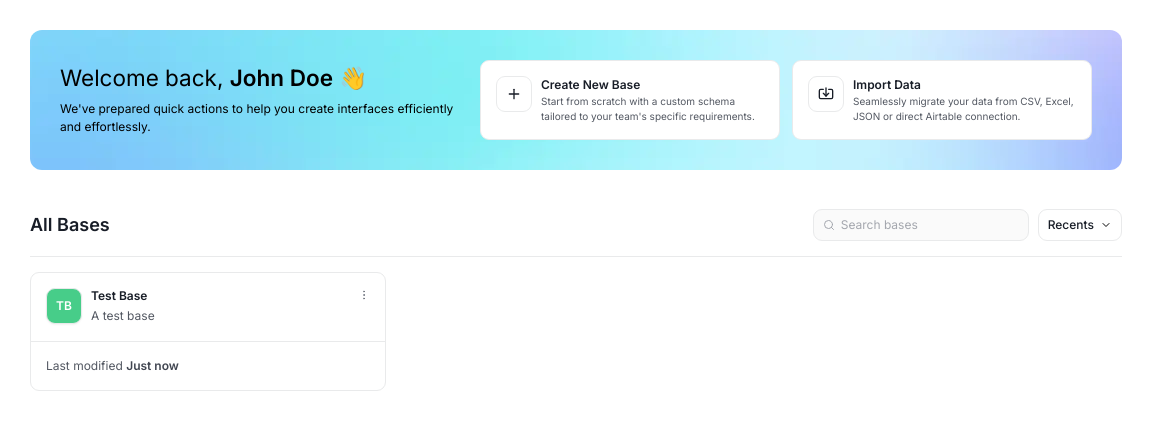
Test case: HomePage › Sorting › should close sort dropdown on outside click
The image size is (1152, 437).
Click the button "Recents" at x=1080, y=225, box [1038,209,1122,241]
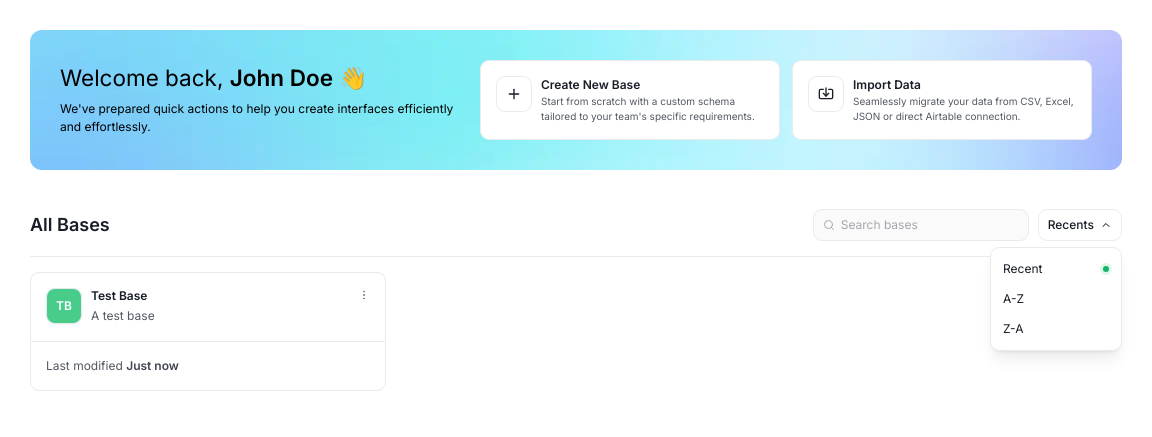
Check: the button "A-Z" is shown, box [997,284,1115,314]
Press the mouse on the element that starts with "Welcome back," at x=576, y=210, box [0,0,1151,420]
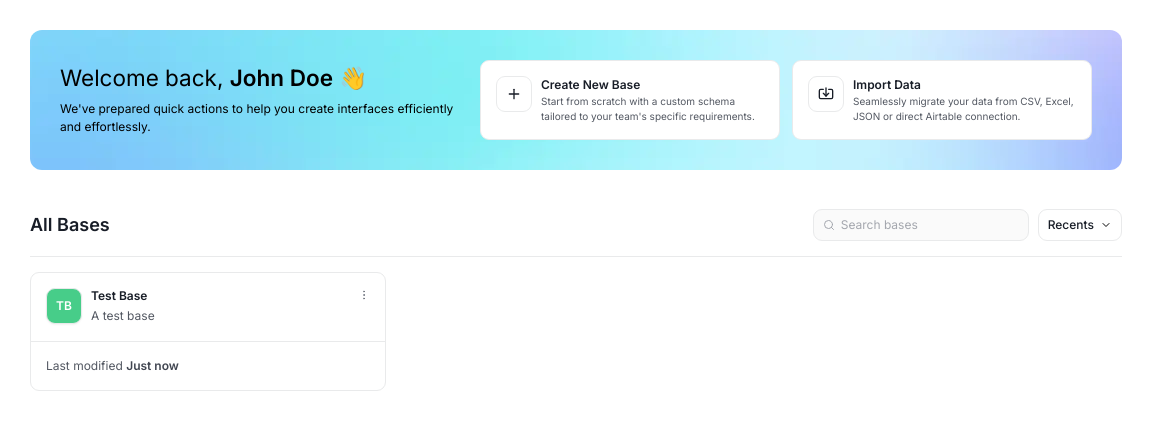
Check: the button "A-Z" is gone
